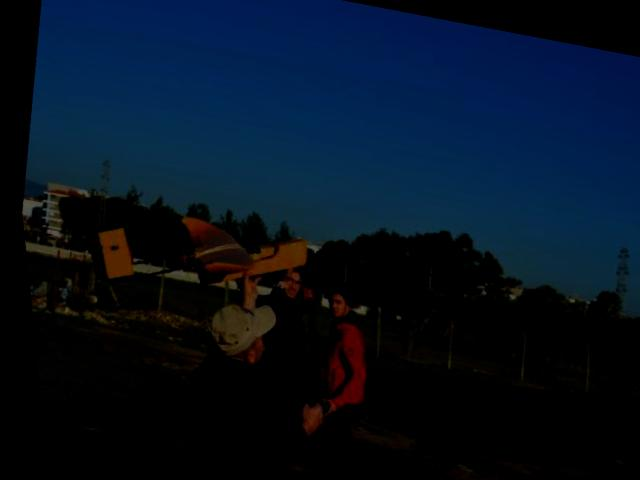iha: (70, 192, 321, 324)
